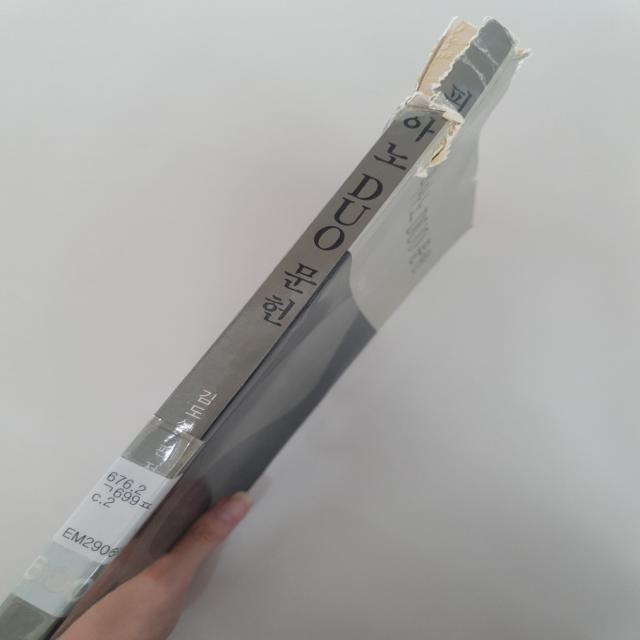Ripped: (376, 9, 536, 178)
